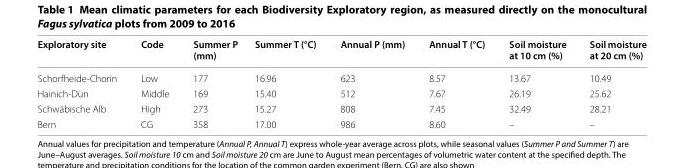table: (36, 37, 645, 129)
table column: (36, 37, 128, 129), (327, 37, 416, 129), (245, 37, 327, 129), (496, 37, 577, 129), (416, 37, 496, 129), (577, 37, 645, 129), (180, 37, 245, 129), (128, 37, 180, 129)
table column header: (36, 37, 645, 66)
table row: (36, 37, 645, 66), (36, 66, 645, 85), (36, 100, 645, 116), (36, 85, 645, 100), (36, 116, 645, 129)
